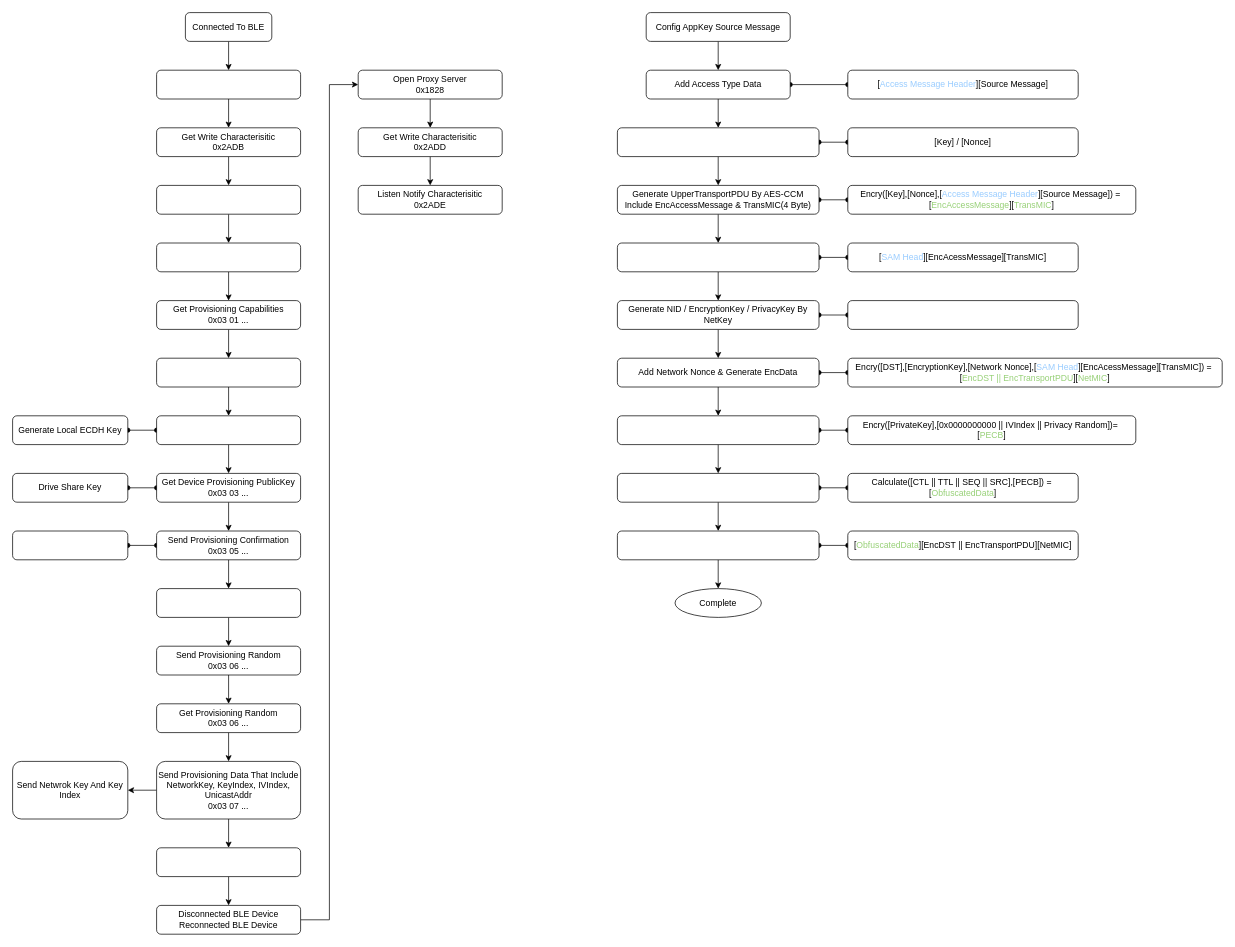
The diagram is 1235 pixels wide and 947 high, and some of its shapes have lost their labels. Each missing label, with the box of its shape:
Add Key of A Type & Nonce of A Type: (617, 127, 819, 157)
Add Obfuscation Data To Message: (617, 530, 819, 560)
Add Segmented Accesss Message Data: (617, 242, 819, 272)
Calculate([Net Key],[0x00]) = [ NID ] [ EncryptionKey ] [ PrivacyKey ]: (847, 300, 1078, 329)
Encry Data for PECB: (617, 415, 819, 445)
Generate Device Key And Add It in Local: (12, 530, 128, 560)
Generate Obfuscation Data: (617, 473, 819, 502)
Get Provisioning Complete 0x03 08: (156, 847, 301, 877)
Get Provisioning Confirmation 0x03 05 ...: (156, 588, 301, 617)
Listen Notify Characterisitic 0x2ADC: (156, 185, 301, 214)
Open Provisioning Server 0x1827: (156, 69, 301, 99)
Send Provisioning Invite 0x03 00 05: (156, 242, 301, 272)
Send Provisioning PublicKey 0x03 03 ...: (156, 415, 301, 445)
Send Provisioning Start 0x03 02 ...: (156, 357, 301, 387)
